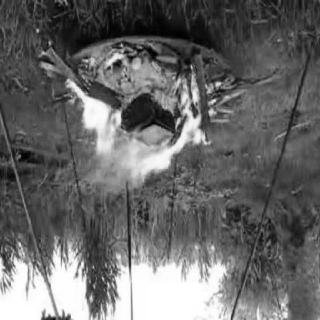Fire: (42, 60, 228, 256)
